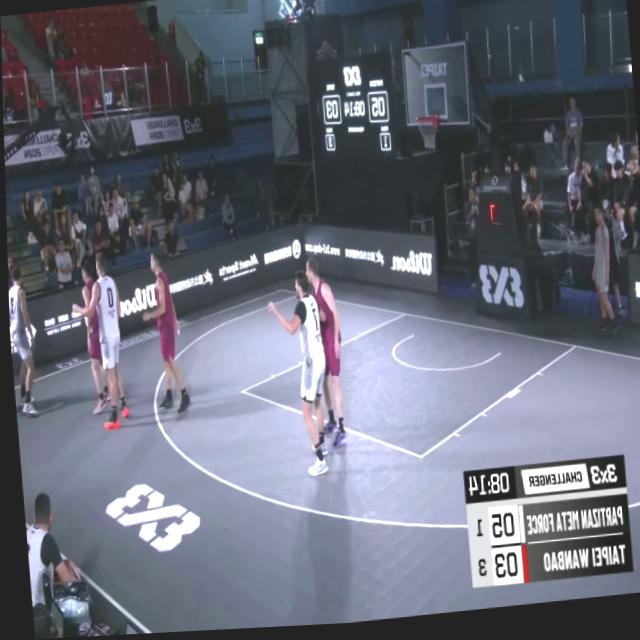hoop: (415, 114, 443, 159)
player: (261, 269, 334, 486), (83, 250, 137, 437), (303, 253, 349, 457), (142, 246, 192, 421), (72, 244, 112, 420), (6, 262, 45, 421)
